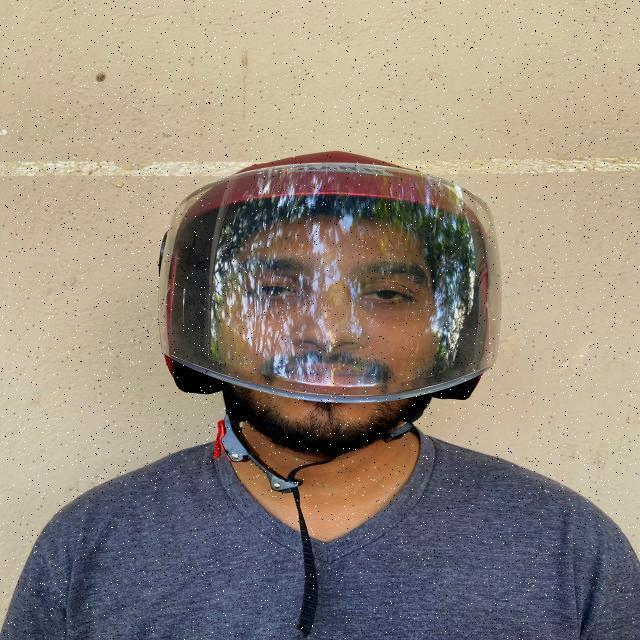helmet: (154, 150, 502, 640)
